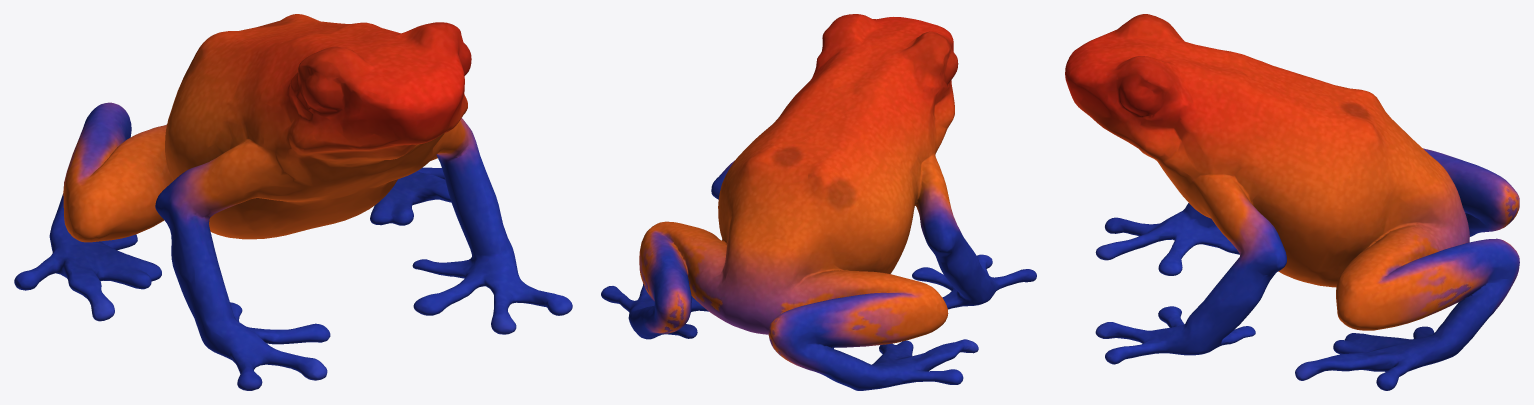
Rendered from strawberry.glb.
3 renders of one model, left to right at view 1: azimuth 30°, elevation 25°; view 2: azimuth 150°, elevation 25°; view 3: azimuth 270°, elevation 25°, orthographic. The views are drawn at different scales.
Visible parts, largest first — view 1: strawberry; view 2: strawberry; view 3: strawberry.
Boxes of the visible parts, x1=… form: strawberry: x1=14, y1=14, x2=572, y2=390; strawberry: x1=601, y1=14, x2=1036, y2=390; strawberry: x1=1065, y1=14, x2=1519, y2=390.
Size of the model in its own units: 0.023 by 0.0146 by 0.023.
1 material, 1 textured.
